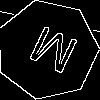M: (22, 24, 81, 84)
